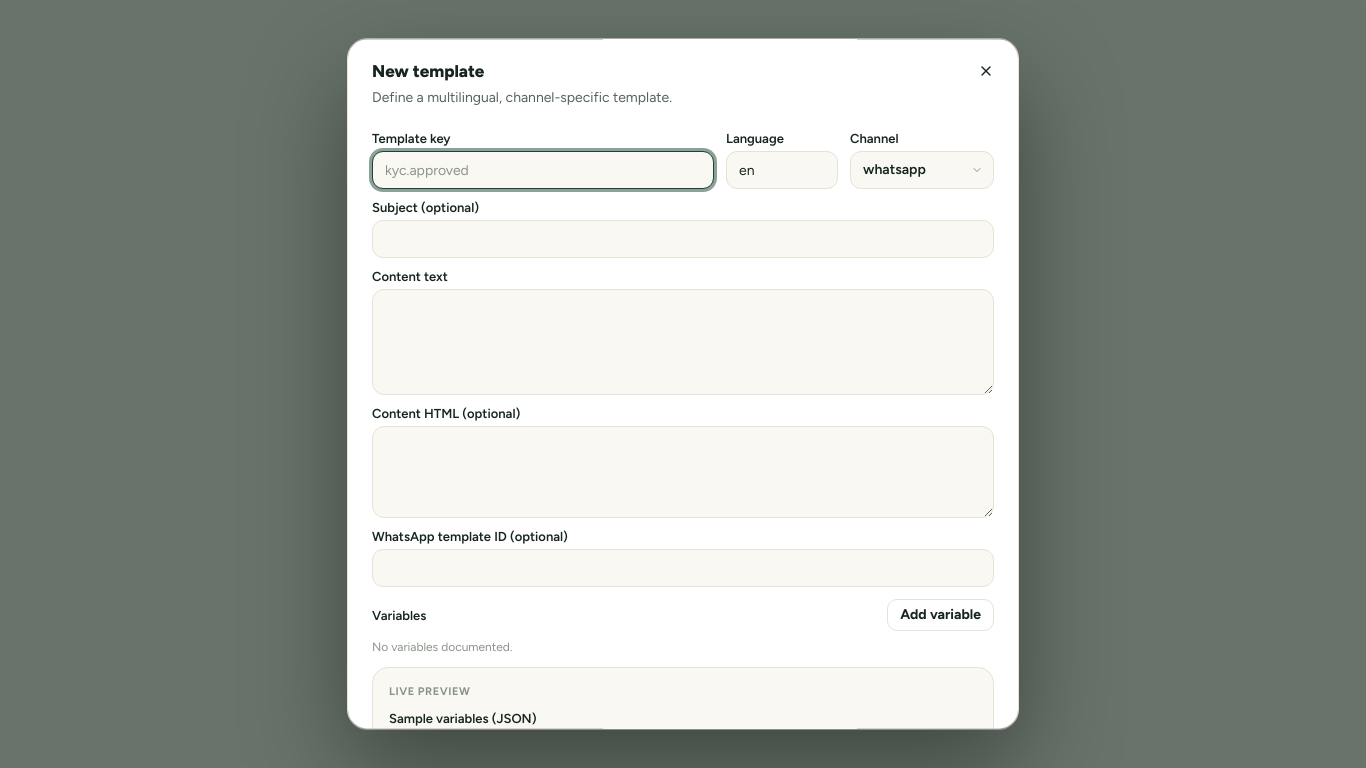
it: TemplateEditorDialog › adds and removes a variable row
The width and height of the screenshot is (1366, 768).
expect the text "No variables documented." is shown: met, box [372,640,512,654]
Step 1. Click the button "Add variable" → (941, 615), box [887,599,994,631]
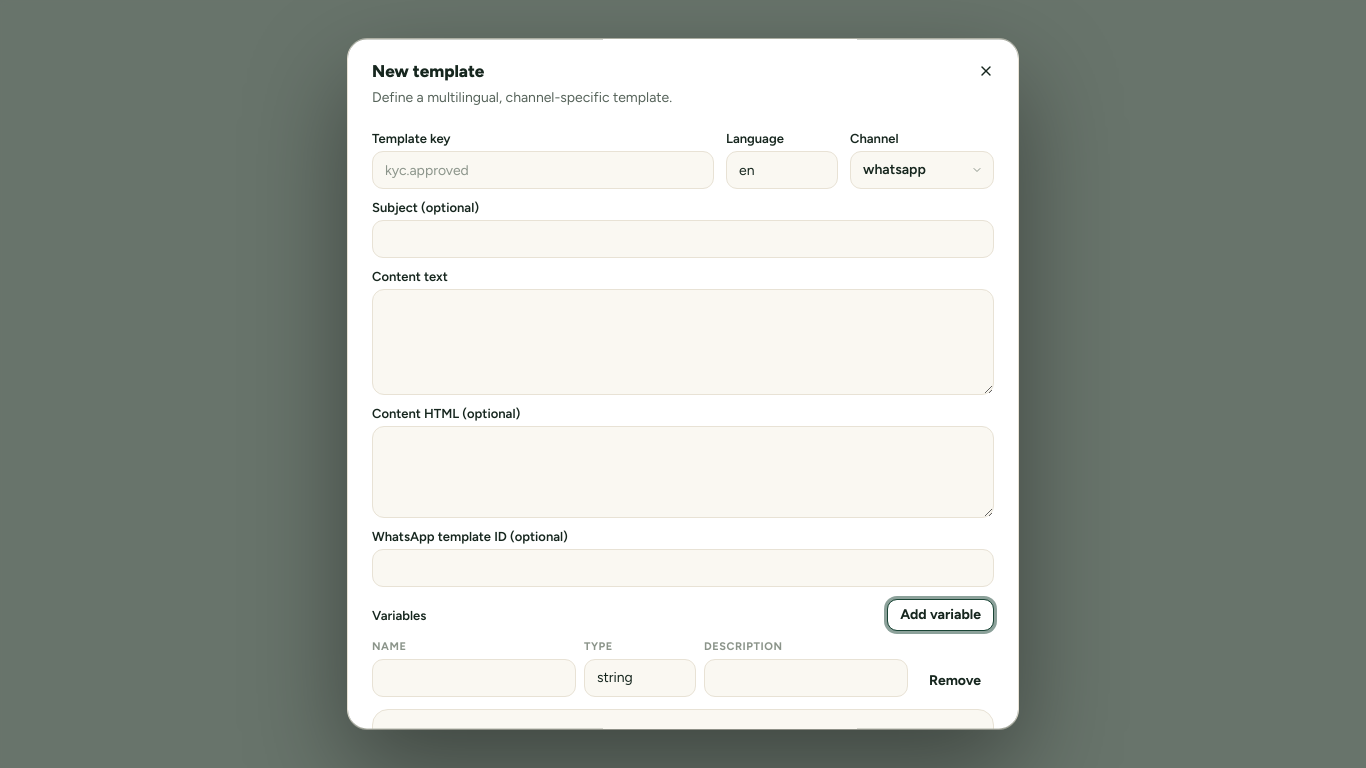
expect the field labelled "Name" is shown: met, box [372,659,576,697]
Step 2. Click the button with aria-label "Remove variable 1" → (955, 681), box [916,665,994,697]
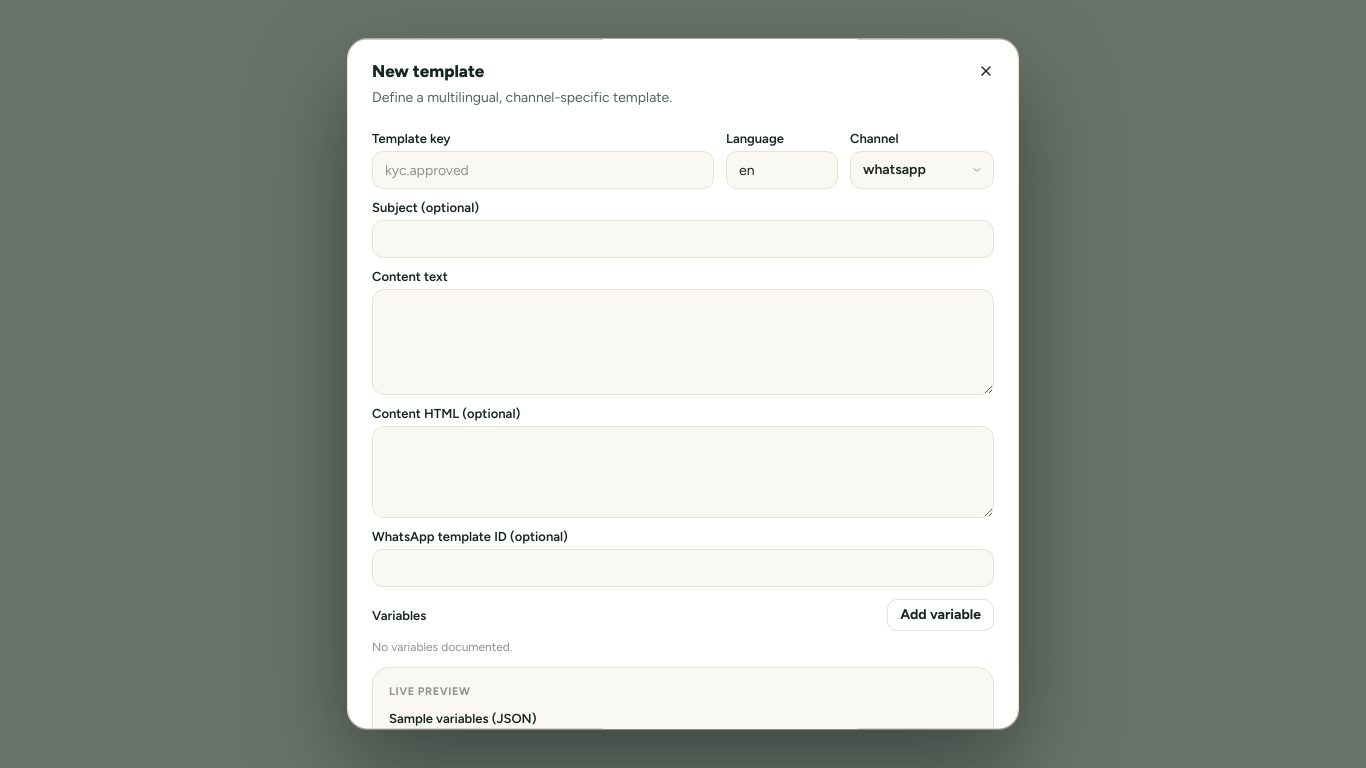
expect the text "No variables documented." is shown: met, box [372,640,512,654]
